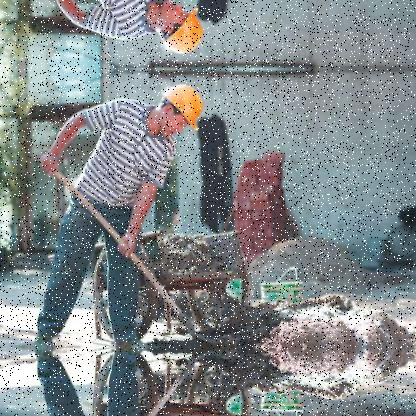Helmet: (146, 0, 208, 59), (154, 74, 204, 146)
